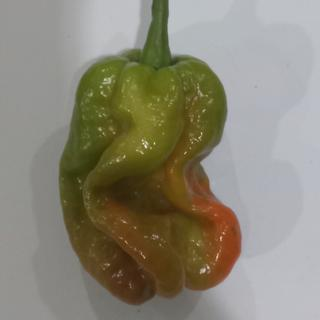Grade-A: (52, 44, 245, 305)
